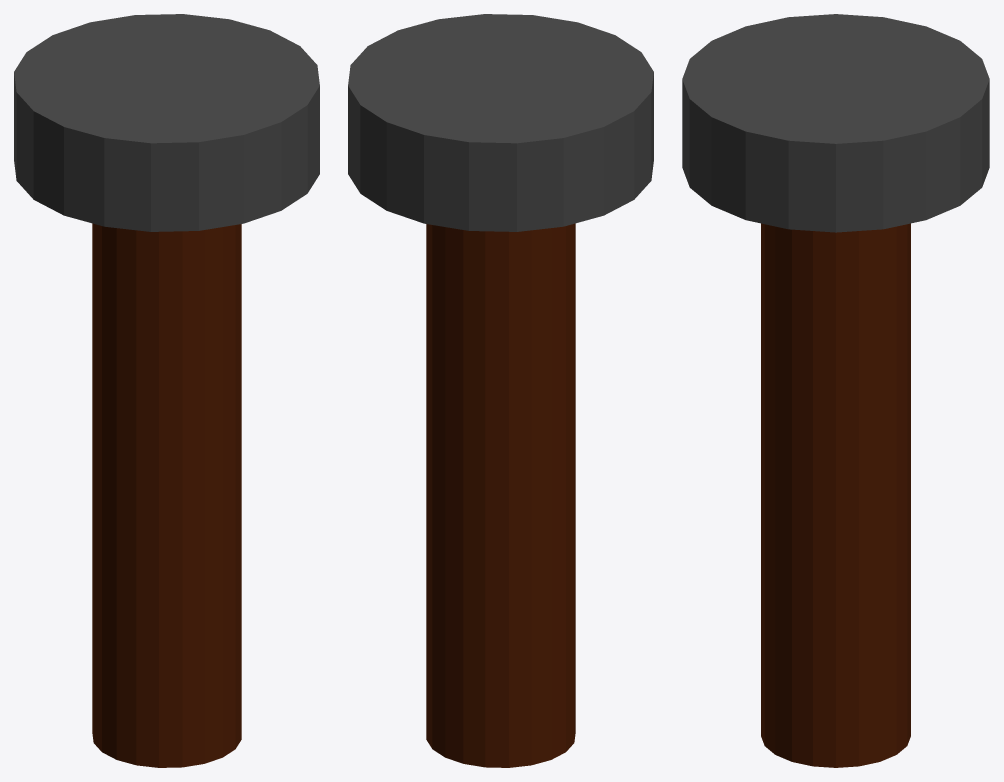
The model's file is Handle1.glb.
3 views of the same model, side by side, from view 1: azimuth 30°, elevation 25°; view 2: azimuth 150°, elevation 25°; view 3: azimuth 270°, elevation 25° (orthographic).
Parts seen in each view (by area): view 1: Handle1; view 2: Handle1; view 3: Handle1.
Part boxes in pixels (x1,y1,x2,y2): Handle1: [14, 14, 319, 767]; Handle1: [348, 14, 653, 767]; Handle1: [682, 14, 989, 767].
Size of the model in its own units: 0.4238 by 1 by 0.4238.
